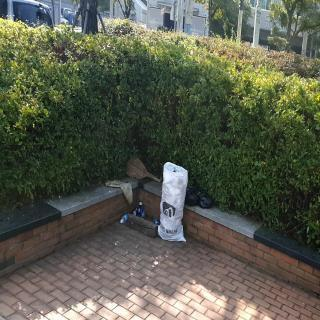Garbage: (157, 157, 188, 247), (185, 184, 199, 205), (198, 189, 212, 209)
